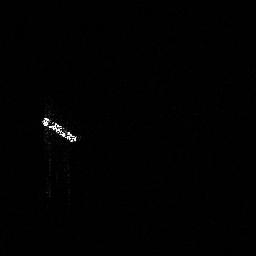ship: (37, 113, 81, 147)
